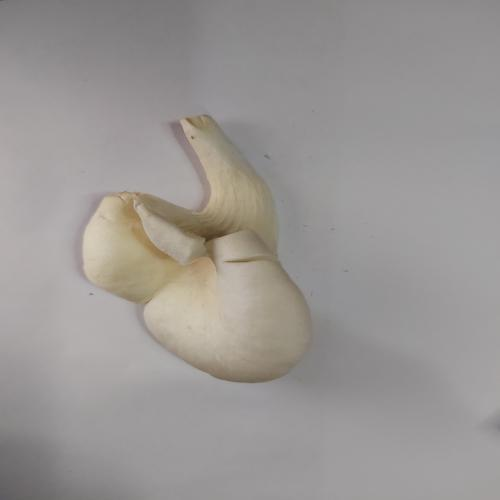Oyster Mushroom: (80, 113, 315, 384)
